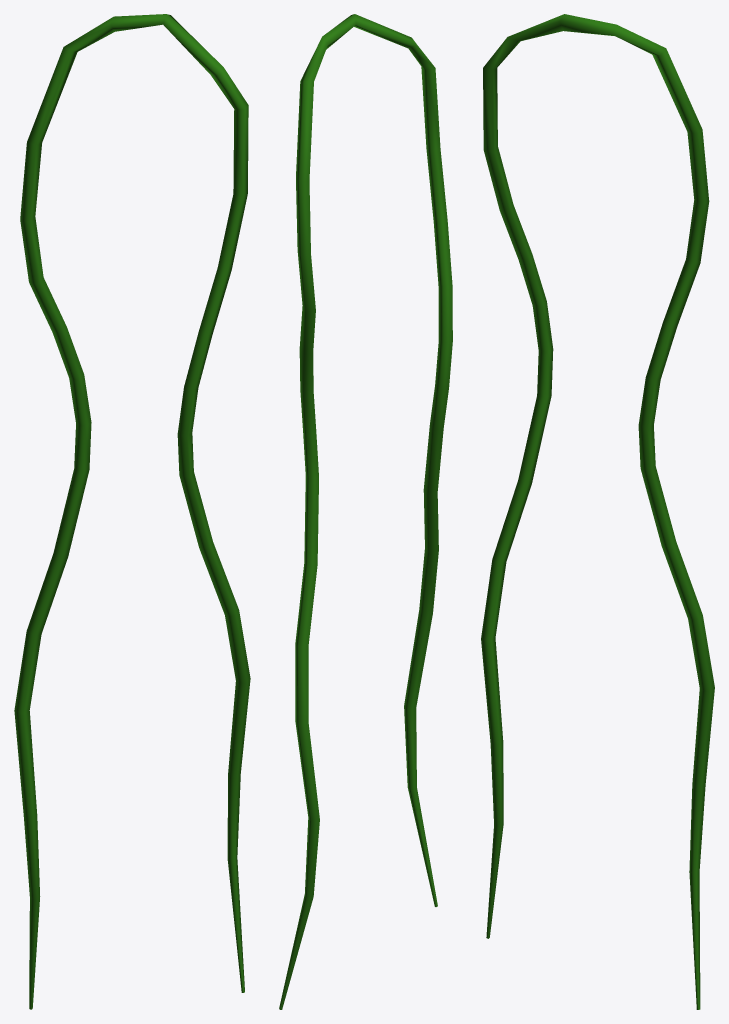
Rendered from Vine_Without_Leaf_01.fbx.
3 renders of one model, left to right at view 1: azimuth 90°, elevation 25°; view 2: azimuth 150°, elevation 25°; view 3: azimuth 270°, elevation 25°, orthographic. The views are drawn at different scales.
Visible parts, largest first — view 1: Vine_Without_Leaf_01; view 2: Vine_Without_Leaf_01; view 3: Vine_Without_Leaf_01.
Boxes of the visible parts, left/top/right/bottom form: Vine_Without_Leaf_01: left=14, top=14, right=250, bottom=1009; Vine_Without_Leaf_01: left=279, top=14, right=452, bottom=1009; Vine_Without_Leaf_01: left=481, top=14, right=714, bottom=1009.
Bounding box in the file's own units: 40.01 × 373 × 79.89.
